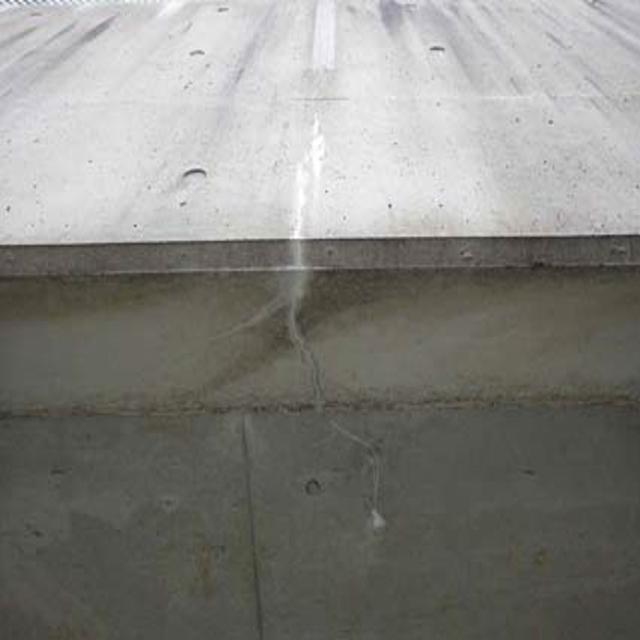crack: (282, 223, 397, 527)
